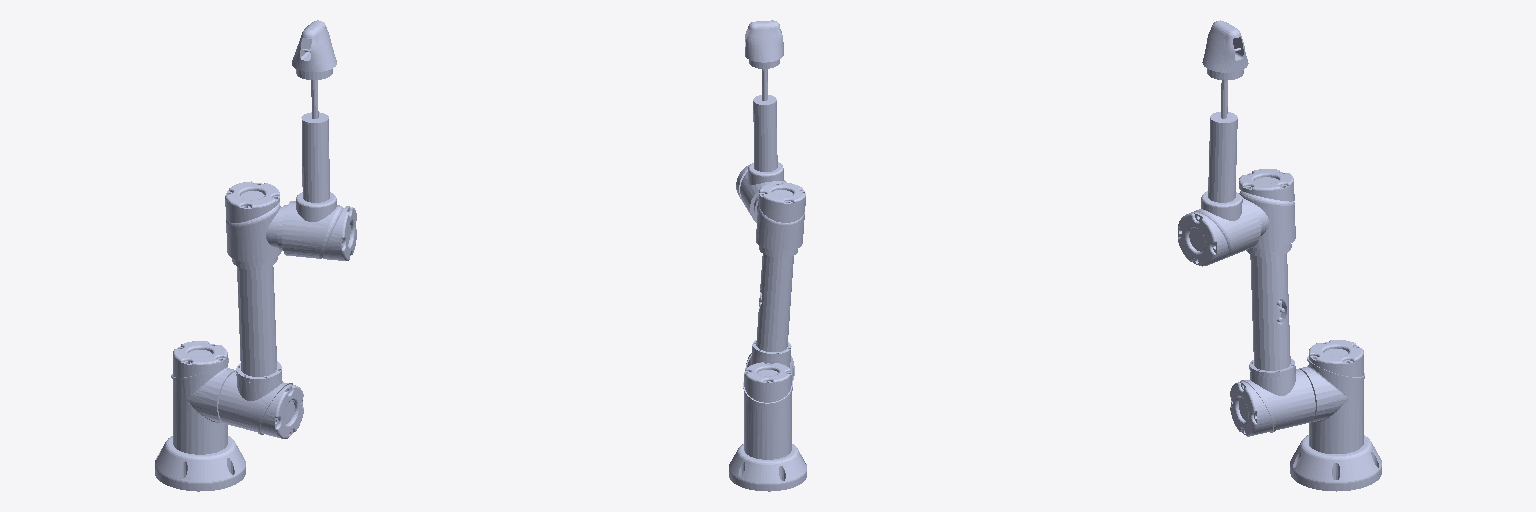
robot.urdf — ARM_ASSEMBLY_RE1:
<?xml version="1.0" encoding="utf-8"?>
<!-- This URDF was automatically created by SolidWorks to URDF Exporter! Originally created by [author] ([email redacted]) 
     Commit Version: 1.6.0-1-g15f4949  Build Version: 1.6.7594.29634
     For more information, please see http://wiki.ros.org/sw_urdf_exporter -->
<robot
  name="ARM_ASSEMBLY_RE1">
  <link
    name="base_link">
    <inertial>
      <origin
        xyz="9.75268811923446E-07 3.15342188392907E-06 0.0252322469578344"
        rpy="0 0 0" />
      <mass
        value="1.24007528129701" />
      <inertia
        ixx="0.00376433945420404"
        ixy="-3.96761124752336E-08"
        ixz="5.05068524940033E-09"
        iyy="0.00376446873858144"
        iyz="-3.43099373053588E-08"
        izz="0.00666484522109885" />
    </inertial>
    <visual>
      <origin
        xyz="0 0 0"
        rpy="0 0 0" />
      <geometry>
        <mesh
          filename="package://ARM_ASSEMBLY_RE1/meshes/base_link.STL" />
      </geometry>
      <material
        name="">
        <color
          rgba="0.792156862745098 0.819607843137255 0.933333333333333 1" />
      </material>
    </visual>
    <collision>
      <origin
        xyz="0 0 0"
        rpy="0 0 0" />
      <geometry>
        <mesh
          filename="package://ARM_ASSEMBLY_RE1/meshes/base_link.STL" />
      </geometry>
    </collision>
  </link>
  <link
    name="Link1">
    <inertial>
      <origin
        xyz="-3.28412393702914E-06 0.00861147510681158 -0.139555400048675"
        rpy="0 0 0" />
      <mass
        value="3.45860242197991" />
      <inertia
        ixx="0.0184381176782888"
        ixy="1.78263436961031E-07"
        ixz="-1.40563781717853E-07"
        iyy="0.0171628255856959"
        iyz="0.00209014529580622"
        izz="0.00767768637498651" />
    </inertial>
    <visual>
      <origin
        xyz="0 0 0"
        rpy="0 0 0" />
      <geometry>
        <mesh
          filename="package://ARM_ASSEMBLY_RE1/meshes/Link1.STL" />
      </geometry>
      <material
        name="">
        <color
          rgba="0.792156862745098 0.819607843137255 0.933333333333333 1" />
      </material>
    </visual>
    <collision>
      <origin
        xyz="0 0 0"
        rpy="0 0 0" />
      <geometry>
        <mesh
          filename="package://ARM_ASSEMBLY_RE1/meshes/Link1.STL" />
      </geometry>
    </collision>
  </link>
  <joint
    name="Joint0"
    type="revolute">
    <origin
      xyz="0 0 0.02"
      rpy="3.1416 0 0.49571" />
    <parent
      link="base_link" />
    <child
      link="Link1" />
    <axis
      xyz="0 0 1" />
    <limit
      lower="0"
      upper="0"
      effort="0"
      velocity="0" />
  </joint>
  <link
    name="Link2">
    <inertial>
      <origin
        xyz="0.000378738732518688 0.225435761805327 0.140721813323699"
        rpy="0 0 0" />
      <mass
        value="5.06168582934501" />
      <inertia
        ixx="0.0187725895349201"
        ixy="-0.000106252186519389"
        ixz="-9.13339724907783E-05"
        iyy="0.00769589015668832"
        iyz="-0.000733091576398154"
        izz="0.0187023494764575" />
    </inertial>
    <visual>
      <origin
        xyz="0 0 0"
        rpy="0 0 0" />
      <geometry>
        <mesh
          filename="package://ARM_ASSEMBLY_RE1/meshes/Link2.STL" />
      </geometry>
      <material
        name="">
        <color
          rgba="0.792156862745098 0.819607843137255 0.933333333333333 1" />
      </material>
    </visual>
    <collision>
      <origin
        xyz="0 0 0"
        rpy="0 0 0" />
      <geometry>
        <mesh
          filename="package://ARM_ASSEMBLY_RE1/meshes/Link2.STL" />
      </geometry>
    </collision>
  </link>
  <joint
    name="Joint1"
    type="revolute">
    <origin
      xyz="0 0.0168792056756725 -0.18"
      rpy="-1.5707963267949 0.0637202418141582 0" />
    <parent
      link="Link1" />
    <child
      link="Link2" />
    <axis
      xyz="0 0 1" />
    <limit
      lower="0"
      upper="0"
      effort="0"
      velocity="0" />
  </joint>
  <link
    name="Link3">
    <inertial>
      <origin
        xyz="-0.00138149144172306 0.0804446375751445 0.0805827542300522"
        rpy="0 0 0" />
      <mass
        value="3.90230363675313" />
      <inertia
        ixx="0.0083097560860992"
        ixy="2.88655921285431E-05"
        ixz="0.000127449728202796"
        iyy="0.00800546638038543"
        iyz="-0.000736090975820835"
        izz="0.00669554434128464" />
    </inertial>
    <visual>
      <origin
        xyz="0 0 0"
        rpy="0 0 0" />
      <geometry>
        <mesh
          filename="package://ARM_ASSEMBLY_RE1/meshes/Link3.STL" />
      </geometry>
      <material
        name="">
        <color
          rgba="0.792156862745098 0.819607843137255 0.933333333333333 1" />
      </material>
    </visual>
    <collision>
      <origin
        xyz="0 0 0"
        rpy="0 0 0" />
      <geometry>
        <mesh
          filename="package://ARM_ASSEMBLY_RE1/meshes/Link3.STL" />
      </geometry>
    </collision>
  </link>
  <joint
    name="Joint2"
    type="fixed">
    <origin
      xyz="0 0.383 0.137293636200294"
      rpy="1.5707963267949 -0.291587178716365 -3.14159265358979" />
    <parent
      link="Link2" />
    <child
      link="Link3" />
    <axis
      xyz="0 0 0" />
    <limit
      lower="0"
      upper="0"
      effort="0"
      velocity="0" />
  </joint>
  <link
    name="Link4">
    <inertial>
      <origin
        xyz="-0.137221096221243 0.00198875993248682 0.00291070377072986"
        rpy="0 0 0" />
      <mass
        value="0.868321275404491" />
      <inertia
        ixx="0.000659308470071036"
        ixy="1.26793061545643E-05"
        ixz="1.84472013860534E-05"
        iyy="0.00263968547488224"
        iyz="-1.49742381589091E-05"
        izz="0.00261628409691957" />
    </inertial>
    <visual>
      <origin
        xyz="0 0 0"
        rpy="0 0 0" />
      <geometry>
        <mesh
          filename="package://ARM_ASSEMBLY_RE1/meshes/Link4.STL" />
      </geometry>
      <material
        name="">
        <color
          rgba="0.792156862745098 0.819607843137255 0.933333333333333 1" />
      </material>
    </visual>
    <collision>
      <origin
        xyz="0 0 0"
        rpy="0 0 0" />
      <geometry>
        <mesh
          filename="package://ARM_ASSEMBLY_RE1/meshes/Link4.STL" />
      </geometry>
    </collision>
  </link>
  <joint
    name="joint3"
    type="fixed">
    <origin
      xyz="-0.0113141319065685 0.142676896558173 0.231953975590411"
      rpy="-2.54219881491639 1.50419337936484 0" />
    <parent
      link="Link3" />
    <child
      link="Link4" />
    <axis
      xyz="0 0 0" />
  </joint>
</robot>

--- What the picture shows (computed from the rendered views, not written in the file) ---
The picture shows the robot from 3 angles, left to right: view 1: azimuth 30°, elevation 25°; view 2: azimuth 150°, elevation 25°; view 3: azimuth 270°, elevation 25°; orthographic projection.
Robot: ARM_ASSEMBLY_RE1 — 5 links, 4 joints (2 revolute, 2 fixed); root link base_link; default pose: all joints at 0.
Visible links, largest first — view 1: Link2, Link3, Link1, base_link, Link4; view 2: Link2, Link1, Link3, base_link, Link4; view 3: Link2, Link3, Link1, base_link, Link4.
Link boxes in pixels (box(x1,y1,x2,y2)): Link2: box(218, 182, 303, 438); Link3: box(225, 112, 356, 265); Link1: box(171, 341, 235, 454); base_link: box(155, 436, 245, 491); Link4: box(292, 20, 336, 201); Link2: box(745, 182, 805, 389); Link1: box(743, 362, 792, 459); Link3: box(736, 95, 805, 253); base_link: box(729, 444, 806, 491); Link4: box(745, 20, 783, 171); Link2: box(1230, 169, 1315, 436); Link3: box(1178, 112, 1294, 266); Link1: box(1299, 340, 1364, 453); base_link: box(1290, 435, 1381, 491); Link4: box(1202, 20, 1248, 200).
Bounding box of the posed robot: 0.3428 × 0.4435 × 1.14 m (x, y, z).
5 mesh visuals loaded from 5 distinct referenced files (5 binary STL).